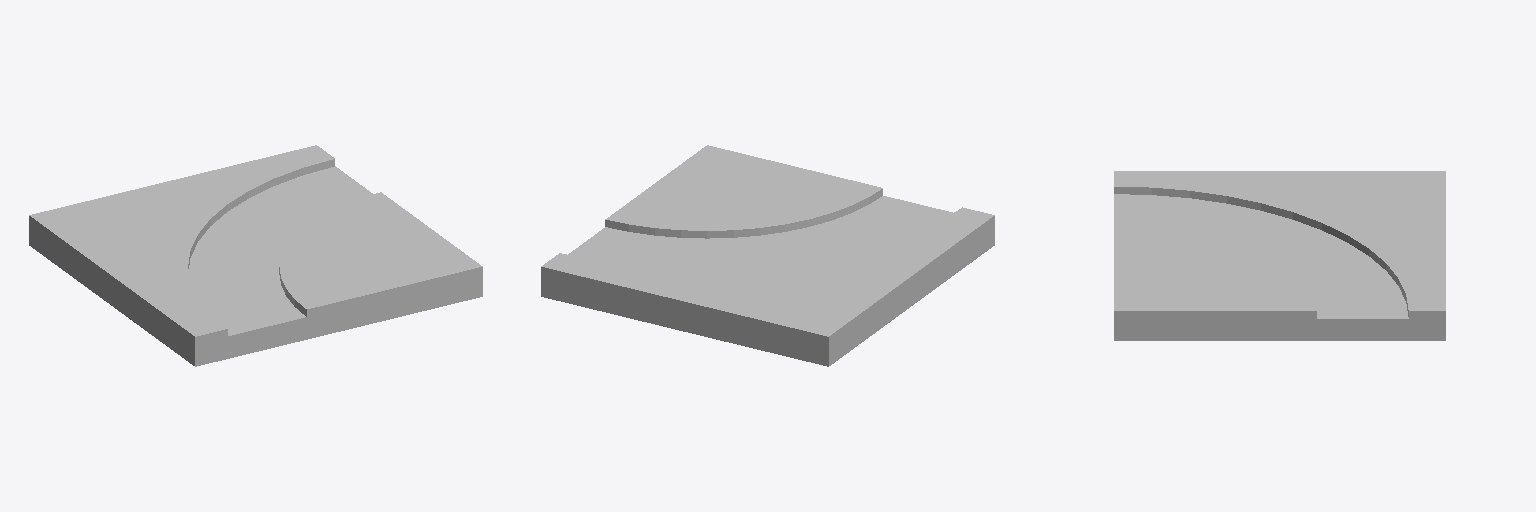
Rendered from snow_tile_cornerLarge.obj.
The picture shows the model from 3 angles: view 1: azimuth 30°, elevation 25°; view 2: azimuth 150°, elevation 25°; view 3: azimuth 270°, elevation 25°; orthographic projection.
Visible parts, largest first — view 1: snow_tile_cornerLarge; view 2: snow_tile_cornerLarge; view 3: snow_tile_cornerLarge.
Boxes of the visible parts, x1=… form: snow_tile_cornerLarge: x1=29, y1=145, x2=482, y2=366; snow_tile_cornerLarge: x1=541, y1=145, x2=994, y2=366; snow_tile_cornerLarge: x1=1114, y1=171, x2=1445, y2=340.
Bounding box in the file's own units: 2 × 0.2 × 2.